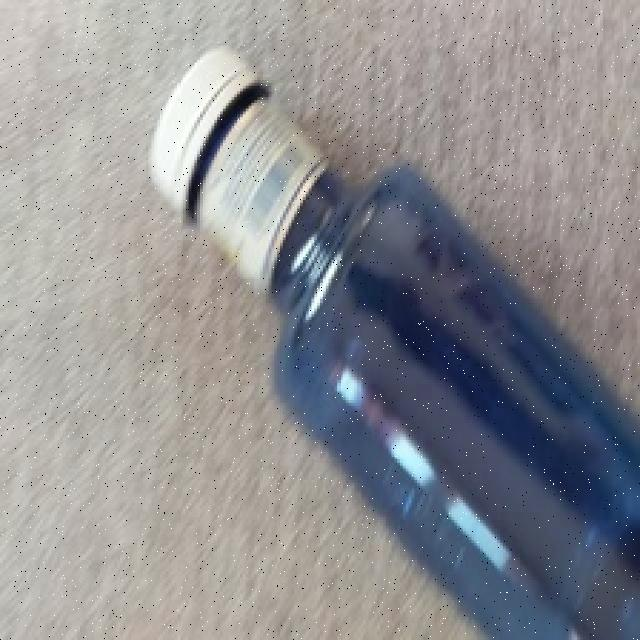bottle: (140, 49, 640, 640)
